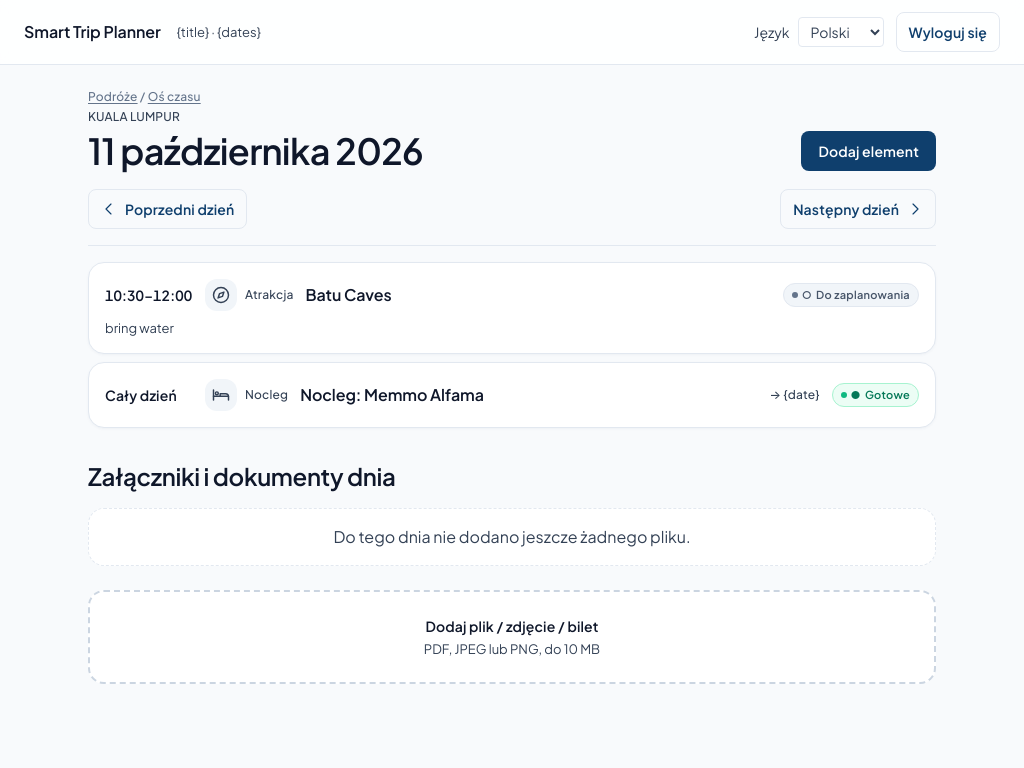
the item editor › closes on Escape
Expected: the text "Batu Caves" is shown, left=306, top=284, right=392, bottom=305
Step 1. Click the button "Dodaj element" → {"x": 869, "y": 151}, box left=801, top=131, right=936, bottom=171
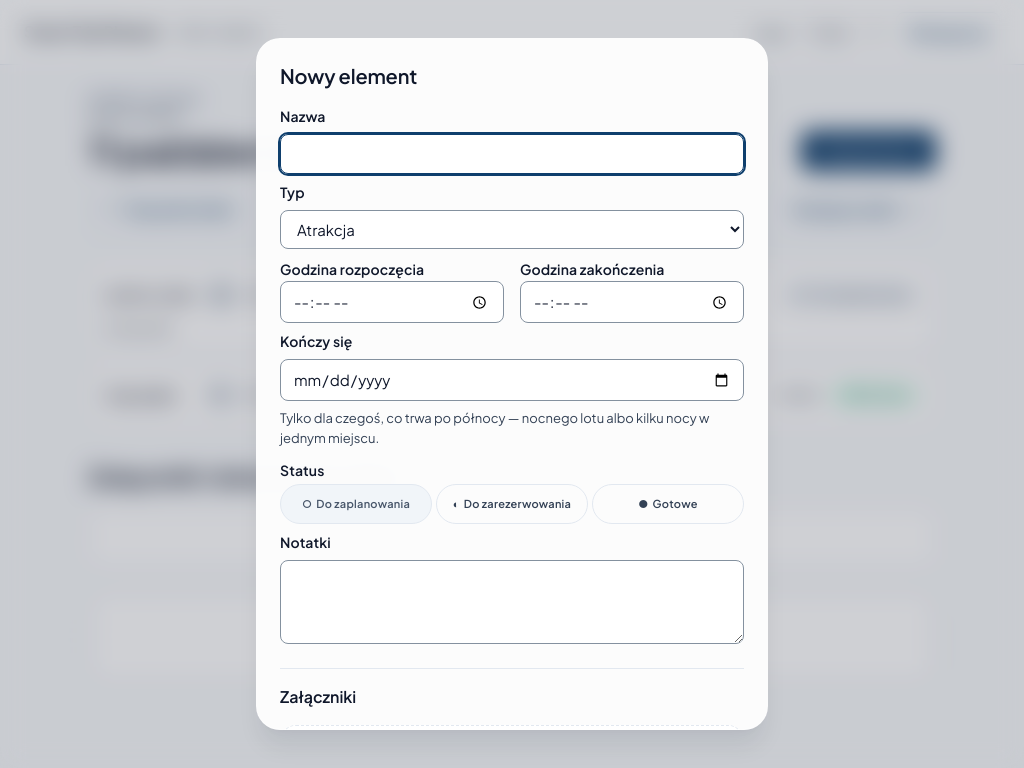
Step 2. Press Escape
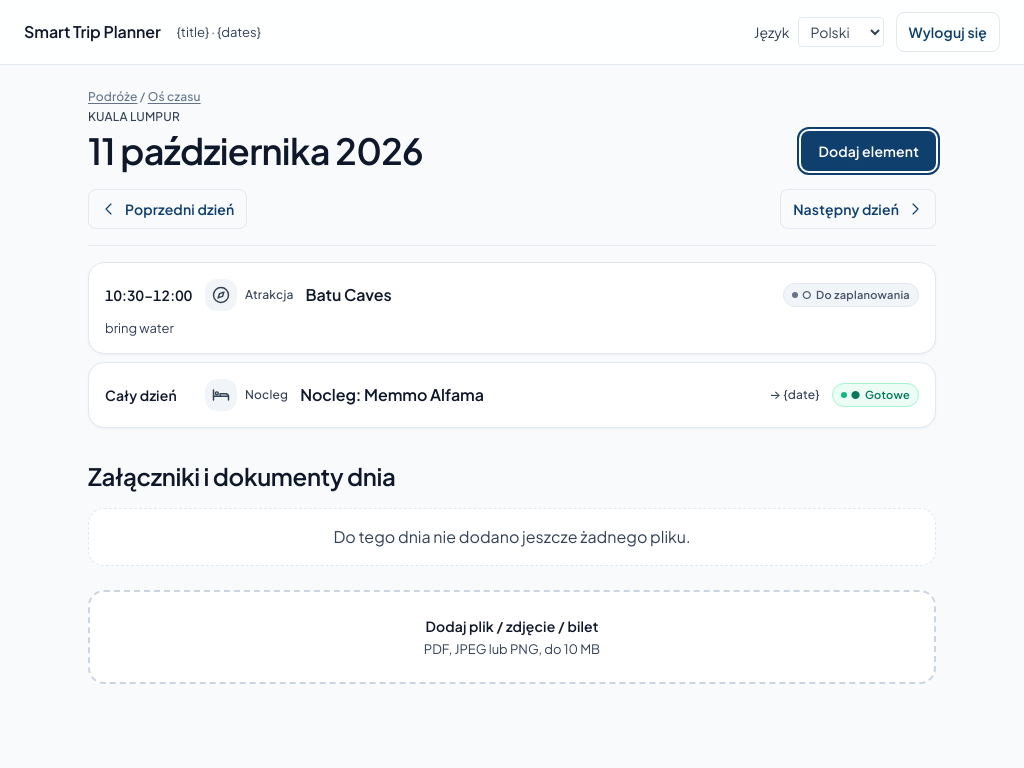
Expected: the dialog is gone
